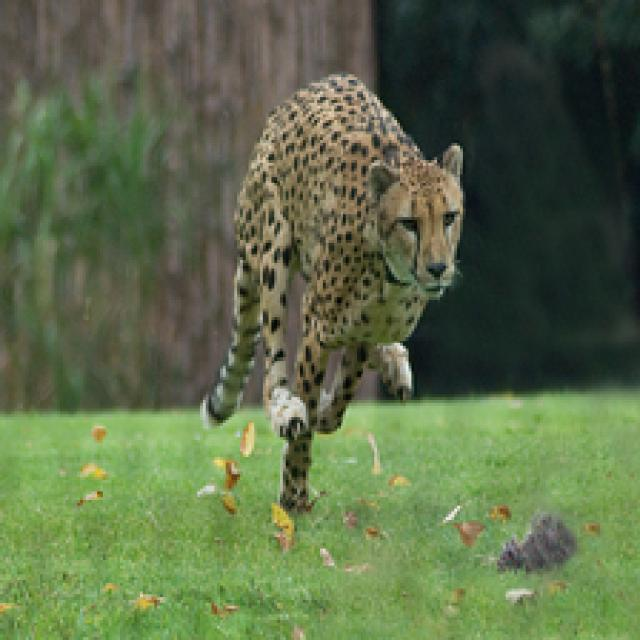cheetah: (188, 70, 474, 532)
